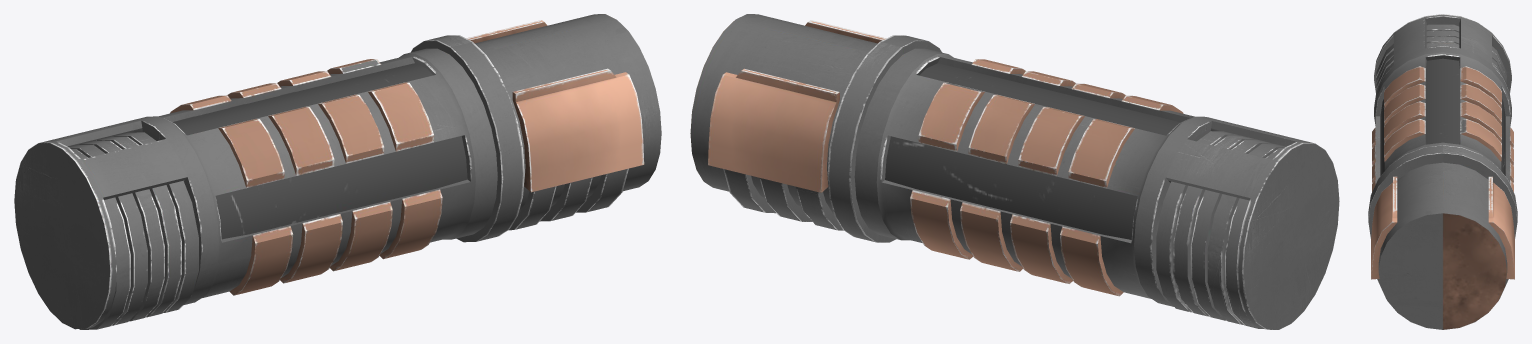
Rendered from grip_20_r_c.glb.
The picture shows the model from 3 angles, left to right: view 1: azimuth 30°, elevation 25°; view 2: azimuth 150°, elevation 25°; view 3: azimuth 270°, elevation 25°; orthographic projection. The views are drawn at different scales.
Parts seen in each view (by area): view 1: grip_20_r_c_lod0; view 2: grip_20_r_c_lod0; view 3: grip_20_r_c_lod0.
Part boxes in pixels (x1,y1,x2,y2): grip_20_r_c_lod0: (14, 14, 661, 329); grip_20_r_c_lod0: (690, 14, 1339, 329); grip_20_r_c_lod0: (1368, 14, 1517, 329).
Size of what is drawn, in the model's own units: 0.1039 by 0.0337 by 0.0337.
Materials: 1 (1 with a texture image).
